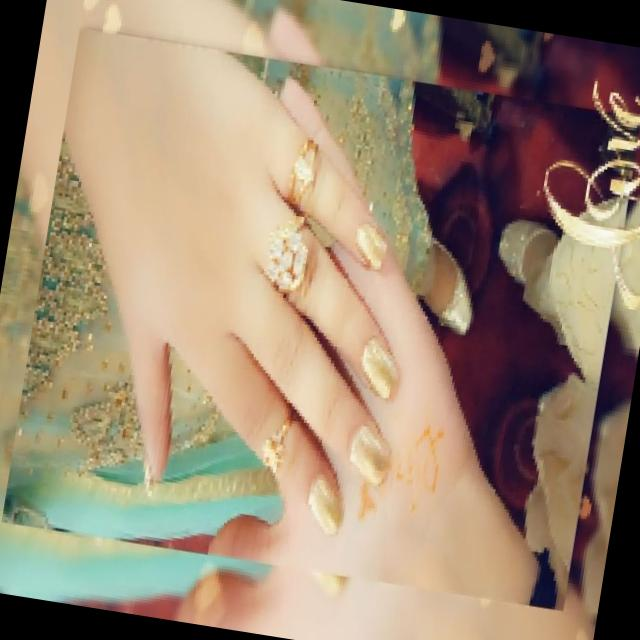Nail: (350, 424, 389, 485), (362, 338, 396, 398), (308, 474, 342, 534), (355, 222, 387, 270)
